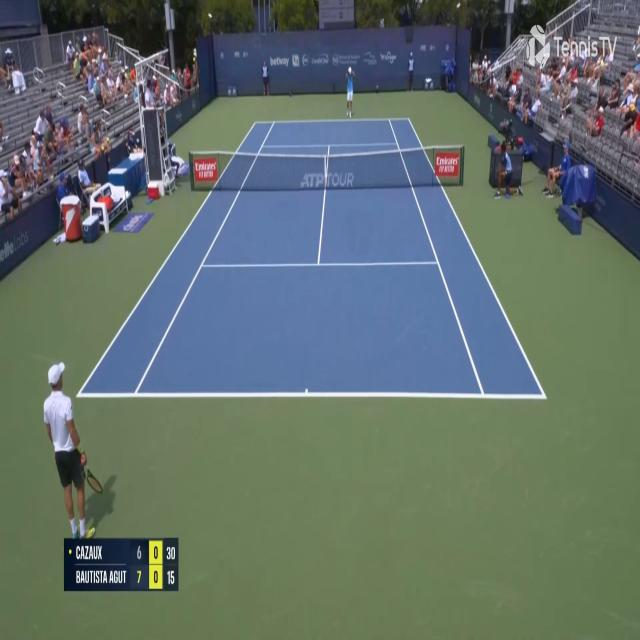tennis-player: (42, 354, 108, 541), (344, 65, 356, 119)
